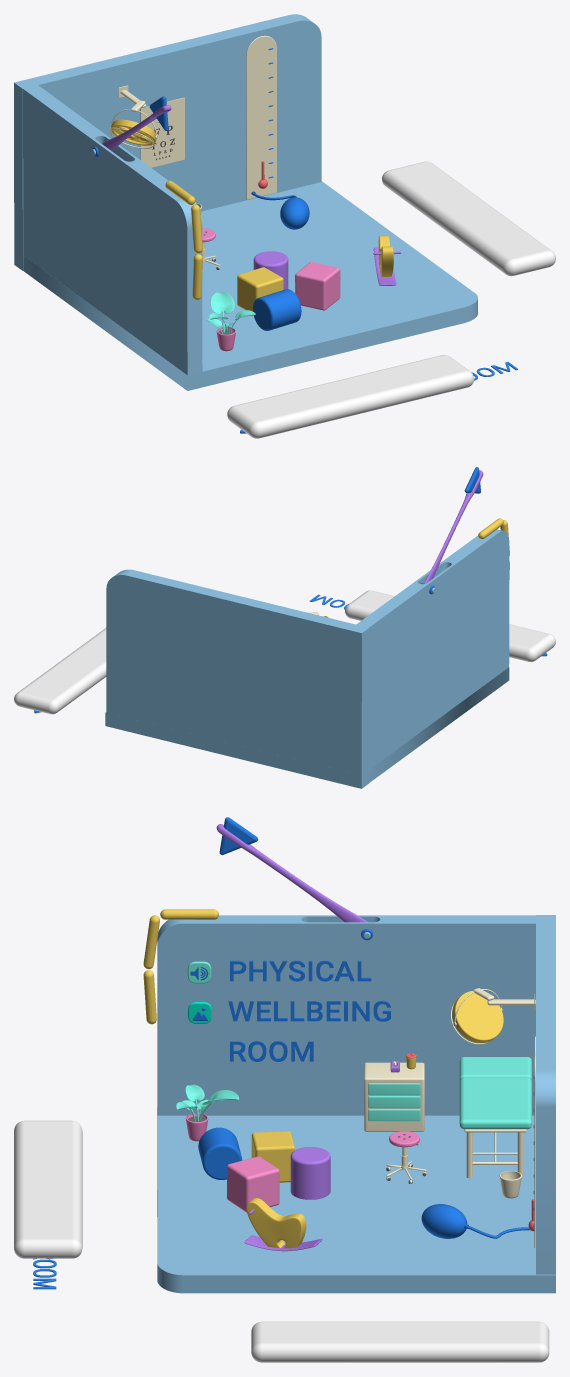
File: barnahus-draco.glb
3 renders of one model, top to bottom at view 1: azimuth 30°, elevation 25°; view 2: azimuth 150°, elevation 25°; view 3: azimuth 270°, elevation 25°, orthographic. The views are drawn at different scales.
Parts seen in each view (by area): view 1: Wall 1, Boolean, Floor, Trigger Previous, Trigger Next, Rectangle 2 (×2), Cube 2, Cylinder 2, Cube chair 1, Cylinder, Sphere 3, Cube (+1 smaller); view 2: Floor, Boolean, Wall 1, Trigger Next, Trigger Previous, Cube; view 3: Boolean, Wall 1, Trigger Next, Trigger Previous, Floor, Text 4, Cube 2 (×2), Bed Lower, Merged Geometry (×4), Boolean 2, Cylinder, Cube 3 (+6 smaller).
Part boxes in pixels (left/top/right/bottom): Wall 1: left=23, top=181, right=477, bottom=390; Boolean: left=15, top=79, right=202, bottom=375; Floor: left=14, top=14, right=321, bottom=270; Trigger Previous: left=227, top=354, right=474, bottom=438; Trigger Next: left=382, top=161, right=555, bottom=276; Rectangle 2 (×2): left=140, top=35, right=277, bottom=199; Cube 2: left=295, top=262, right=340, bottom=310; Cylinder 2: left=253, top=289, right=301, bottom=330; Cube chair 1: left=237, top=267, right=283, bottom=311; Cylinder: left=253, top=251, right=288, bottom=289; Sphere 3: left=280, top=197, right=309, bottom=229; Cube: left=102, top=105, right=171, bottom=150; Floor: left=106, top=569, right=369, bottom=788; Boolean: left=349, top=529, right=509, bottom=769; Wall 1: left=105, top=667, right=509, bottom=788; Trigger Next: left=14, top=628, right=106, bottom=714; Trigger Previous: left=345, top=590, right=555, bottom=662; Cube: left=424, top=470, right=483, bottom=583; Boolean: left=157, top=915, right=555, bottom=1115; Wall 1: left=157, top=1107, right=555, bottom=1293; Trigger Next: left=251, top=1321, right=549, bottom=1362; Trigger Previous: left=14, top=1120, right=82, bottom=1258; Floor: left=536, top=915, right=555, bottom=1274; Text 4: left=228, top=960, right=390, bottom=1061; Cube 2 (×2): left=227, top=1057, right=531, bottom=1212; Bed Lower: left=459, top=1078, right=531, bottom=1129; Merged Geometry (×4): left=368, top=1083, right=523, bottom=1178; Boolean 2: left=364, top=1062, right=424, bottom=1131; Cylinder: left=290, top=1147, right=330, bottom=1199; Cube 3: left=246, top=1198, right=306, bottom=1248.
Size of what is drawn, in the model's own units: 4.16 by 2.66 by 4.07.
